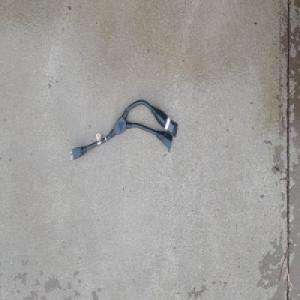Wire: (67, 97, 178, 162)
